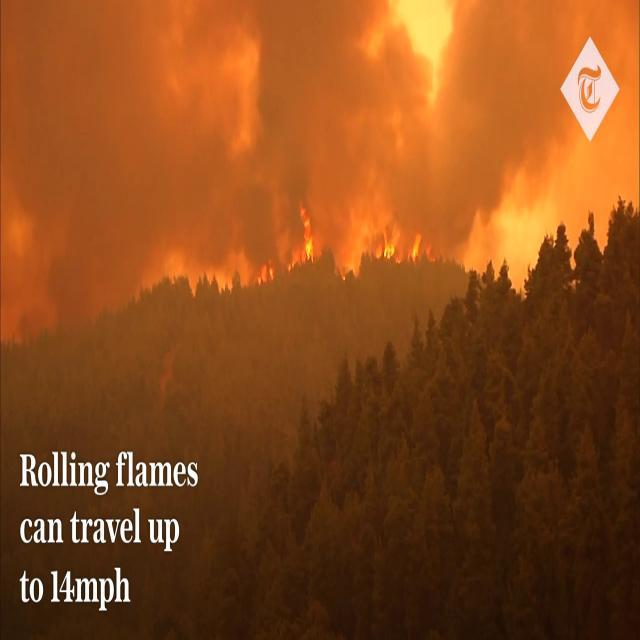Fire: (448, 136, 634, 292), (294, 203, 404, 281)
Smoke: (4, 0, 626, 371)
